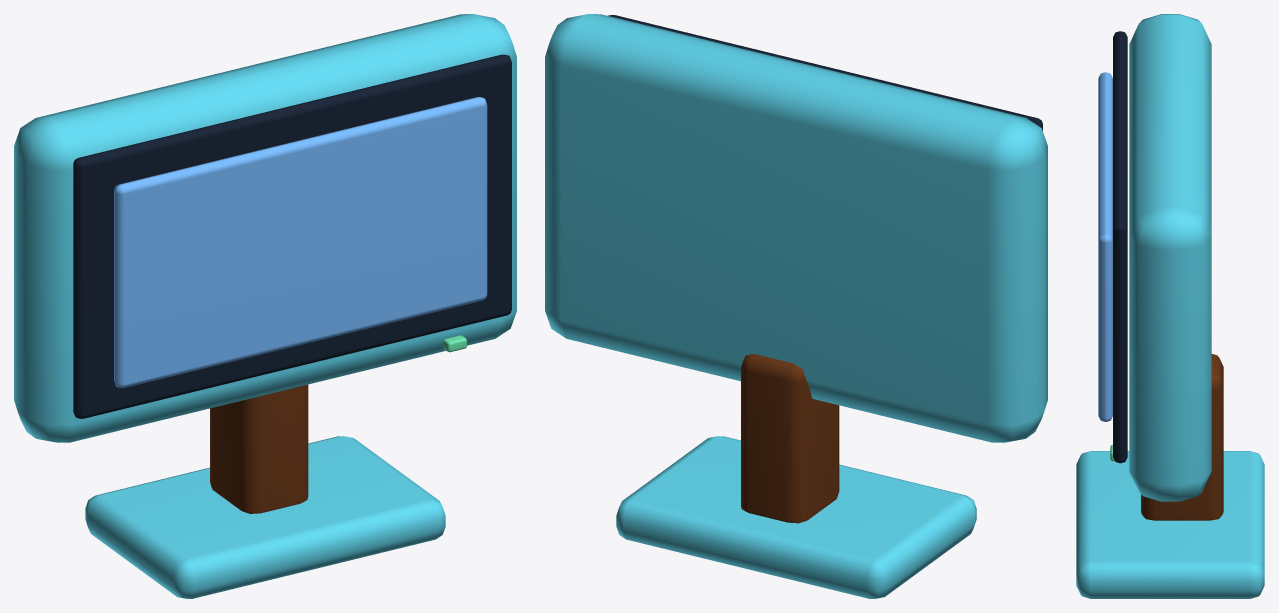
File: monitor.glb
3 views of the same model, side by side, from view 1: azimuth 30°, elevation 25°; view 2: azimuth 150°, elevation 25°; view 3: azimuth 270°, elevation 25° (orthographic). The views are drawn at different scales.
Visible parts, largest first — view 1: monitor; view 2: monitor; view 3: monitor.
Boxes of the visible parts, x1,y1,x2,y2 form: monitor: (14, 14, 516, 598); monitor: (545, 14, 1047, 598); monitor: (1076, 14, 1264, 598).
Bounding box in the file's own units: 1 × 0.9205 × 0.3636.
1 material, 1 textured.
